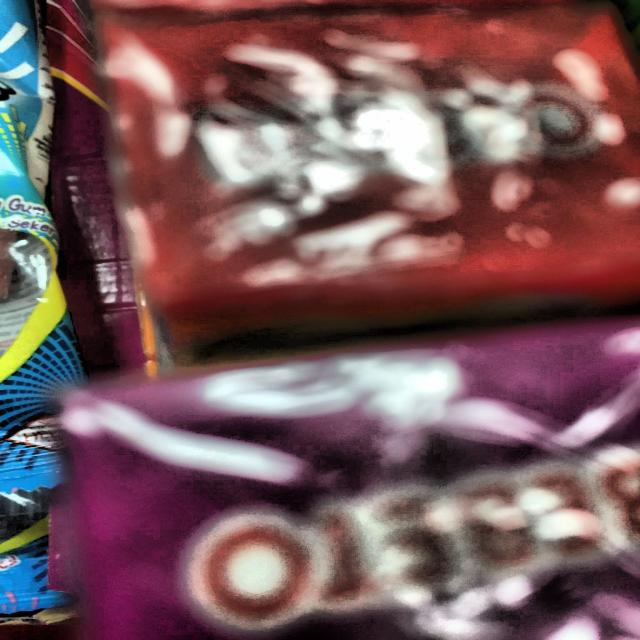Plastic: (93, 0, 632, 323), (80, 326, 635, 633)
